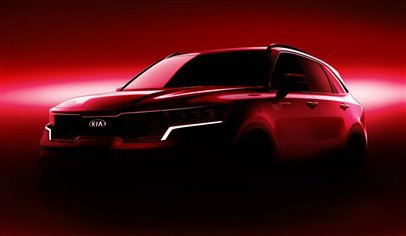car: (38, 49, 374, 188)
